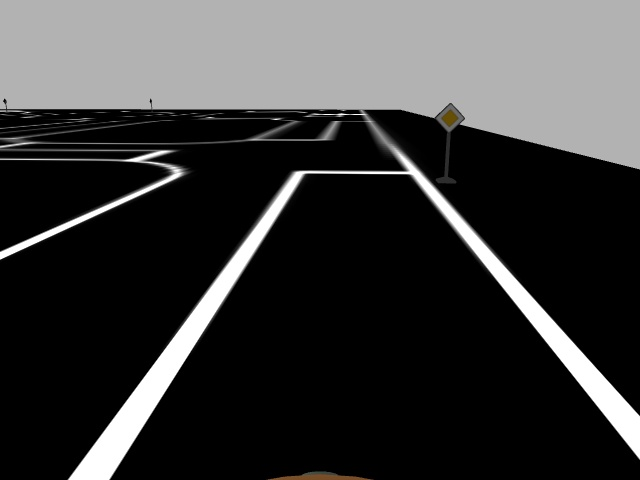priority: (433, 101, 465, 133)
